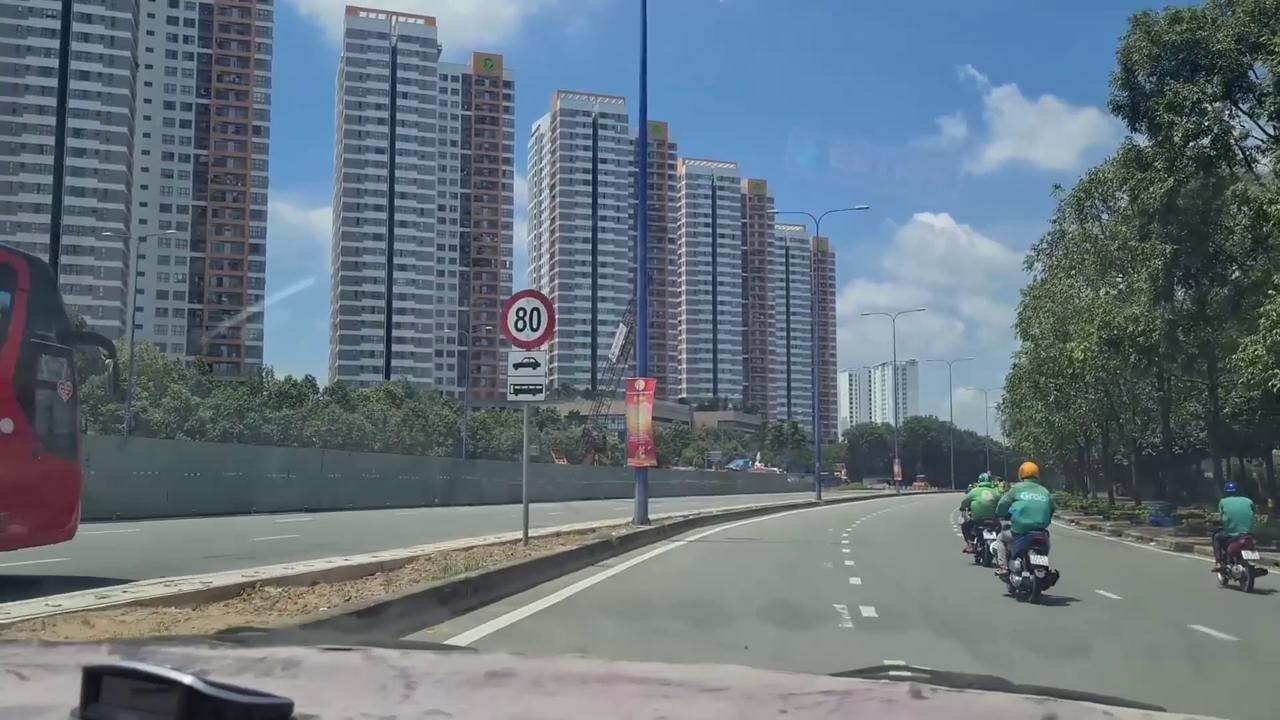Biển phụ: (505, 349, 546, 402)
Giới hạn tốc độ 80Km/h: (499, 287, 556, 350)
